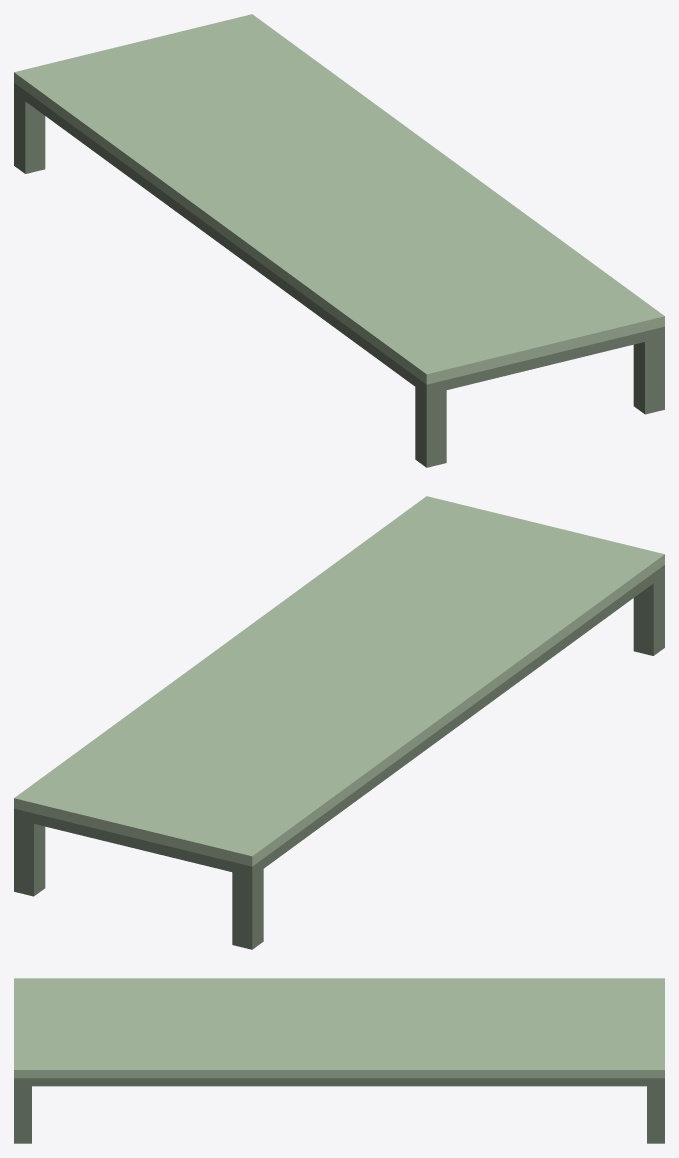
The model's file is mesa_comedor_larga_01.glb.
The picture shows the model from 3 angles, top to bottom: view 1: azimuth 30°, elevation 25°; view 2: azimuth 150°, elevation 25°; view 3: azimuth 270°, elevation 25°; orthographic projection. The views are drawn at different scales.
Parts seen in each view (by area): view 1: mesa_comedor_larga; view 2: mesa_comedor_larga; view 3: mesa_comedor_larga.
Boxes of the visible parts, bbox=[...] form: mesa_comedor_larga: bbox=[14, 14, 664, 467]; mesa_comedor_larga: bbox=[14, 496, 664, 949]; mesa_comedor_larga: bbox=[14, 978, 664, 1143].
Bounding box in the file's own units: 2 × 0.75 × 6.
